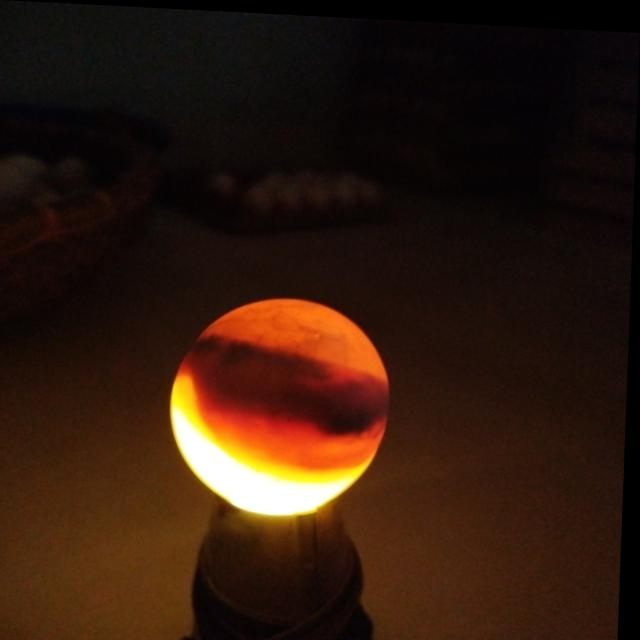Area Infectada: (187, 334, 395, 431)
